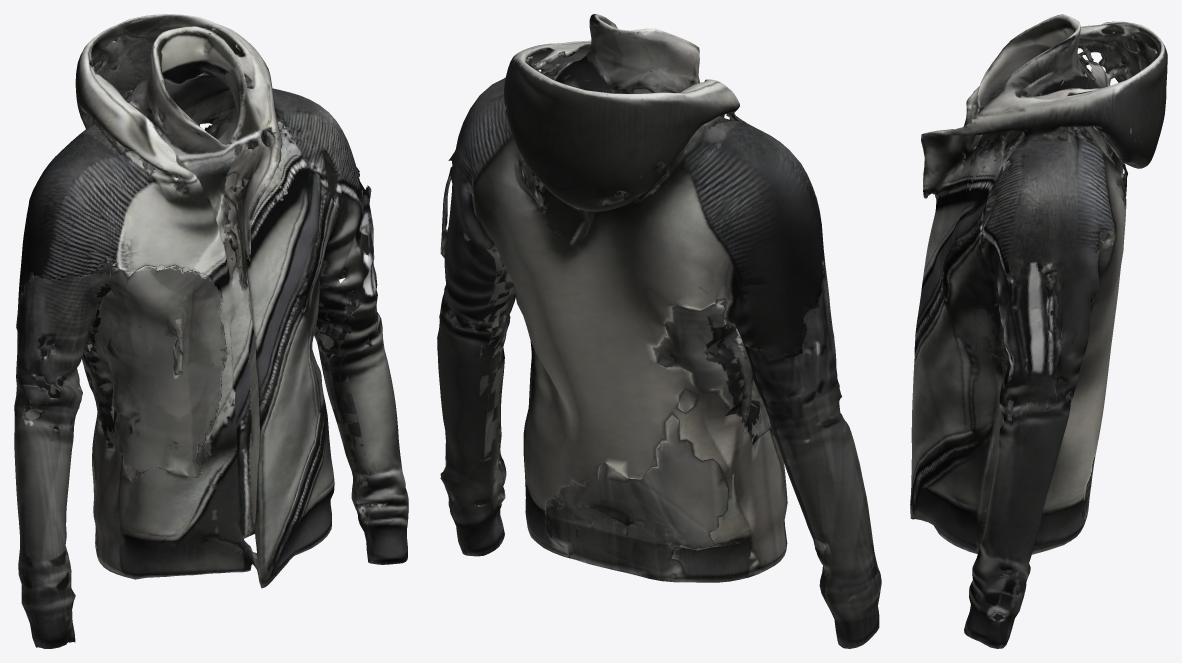
File: hoodie-future.glb
The picture shows the model from 3 angles, left to right: view 1: azimuth 30°, elevation 25°; view 2: azimuth 150°, elevation 25°; view 3: azimuth 270°, elevation 25°; orthographic projection. The views are drawn at different scales.
Parts seen in each view (by area): view 1: Mesh_0.002; view 2: Mesh_0.002; view 3: Mesh_0.002.
Boxes of the visible parts, <box> form: Mesh_0.002: <box>14,14,408,648</box>; Mesh_0.002: <box>437,14,881,648</box>; Mesh_0.002: <box>910,14,1167,648</box>.
Bounding box in the file's own units: 1.47 × 2 × 0.8671.
Materials: 1 (1 with a texture image).
